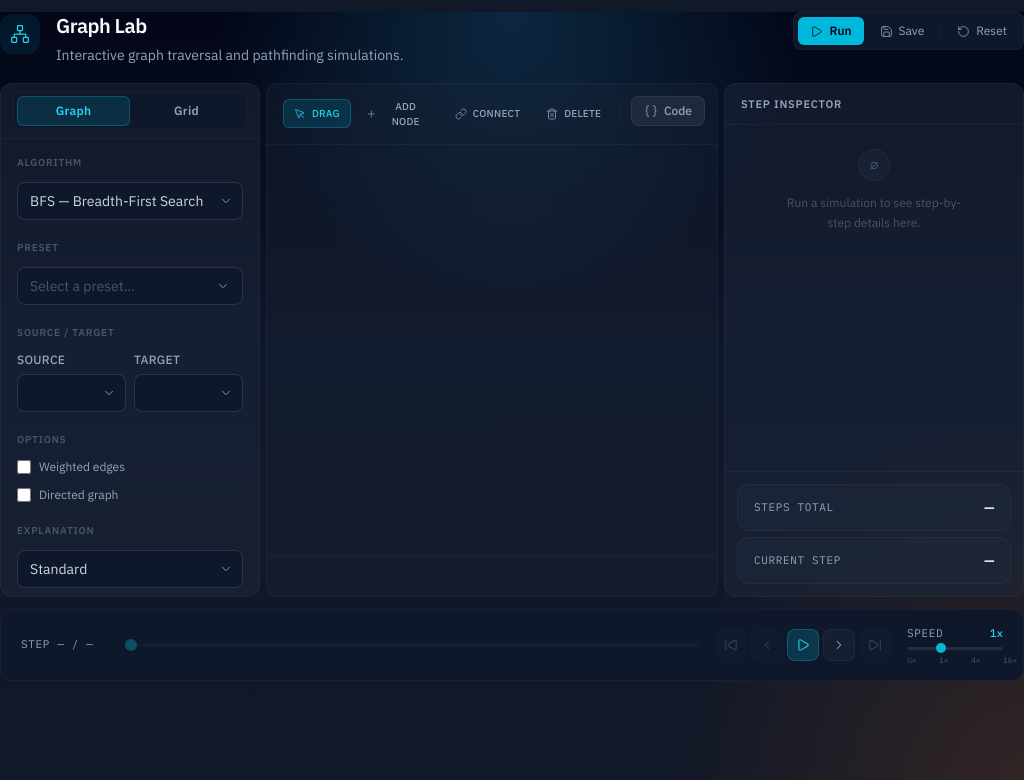
GraphLabPage — mode switch › switches back to graph mode from grid mode
The width and height of the screenshot is (1024, 780).
# Switch to grid
What coordinates should you click on to do the following:
click the button "Grid"
I would click on:
 (186, 111)
Its box is [130, 96, 243, 126].
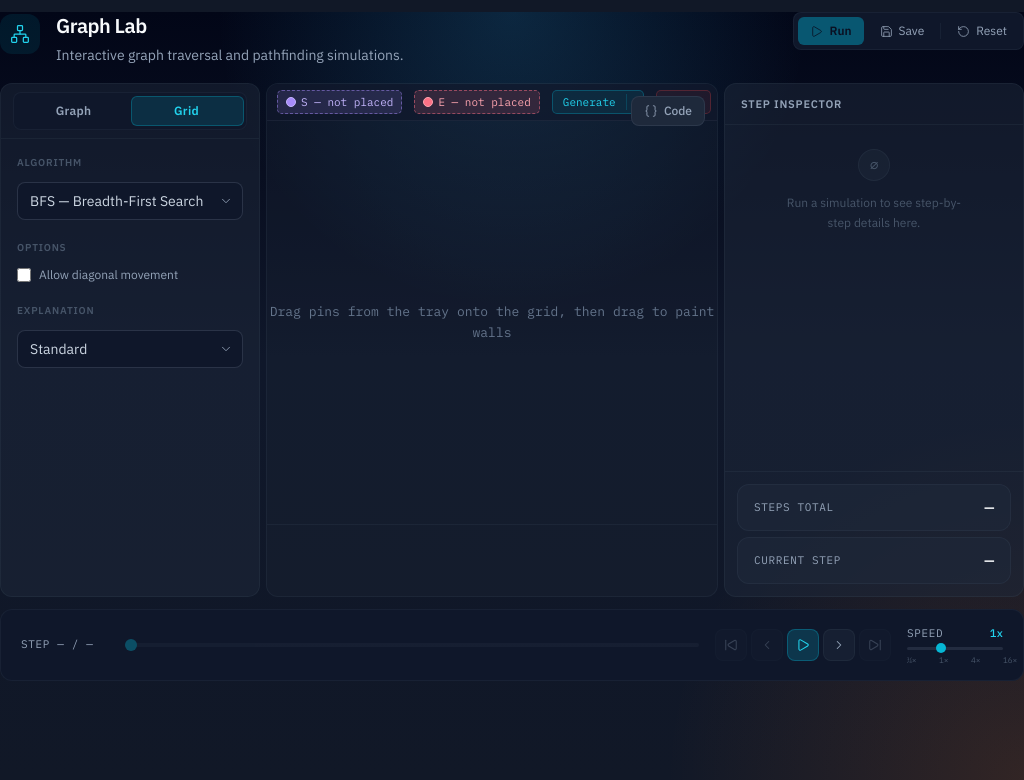
# Switch back to graph
What coordinates should you click on to do the following:
click the button "Graph"
I would click on:
 (74, 111)
Its box is [17, 96, 130, 126].
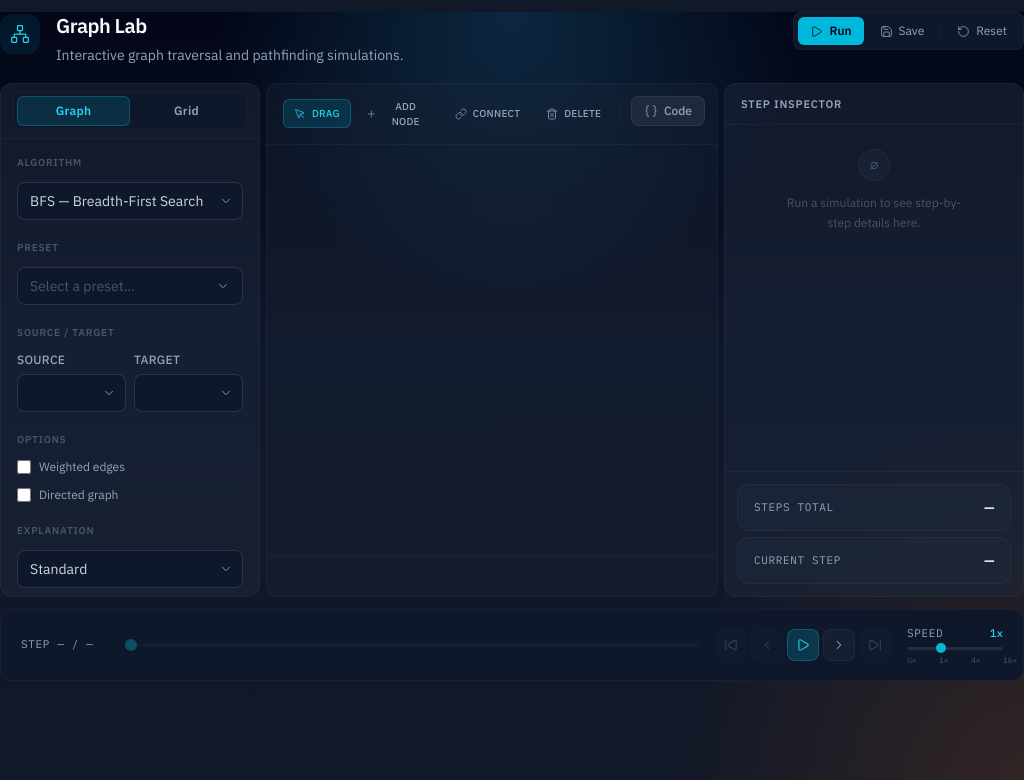
Check: the button labelled "Select a preset…" is shown, box [17, 267, 243, 305]
